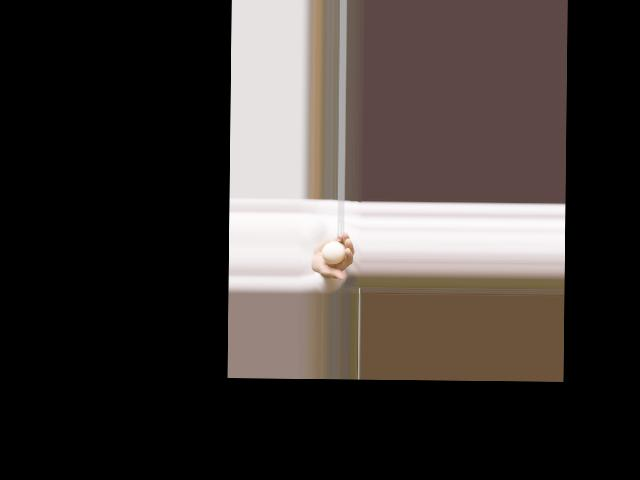egg: (322, 241, 346, 264)
